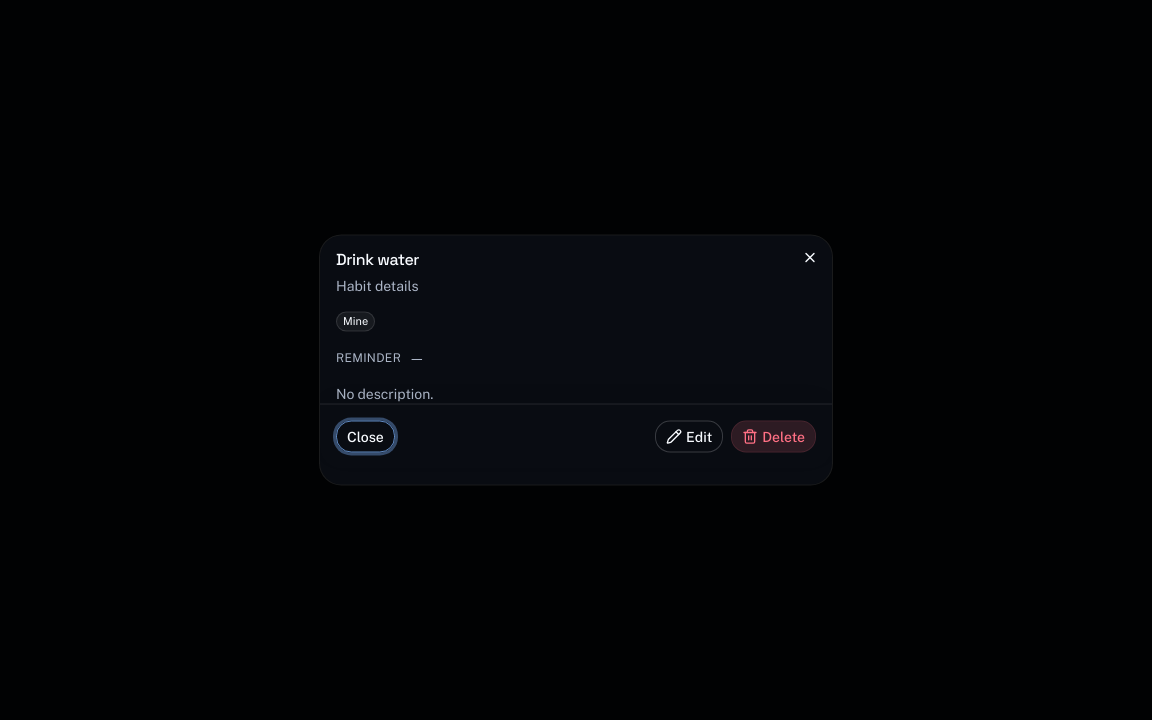
it: HabitTemplateDetailDialog — the save payload › disables Save while the name is empty
Step 1. Click the button "Edit" → (689, 436), box left=655, top=420, right=723, bottom=452
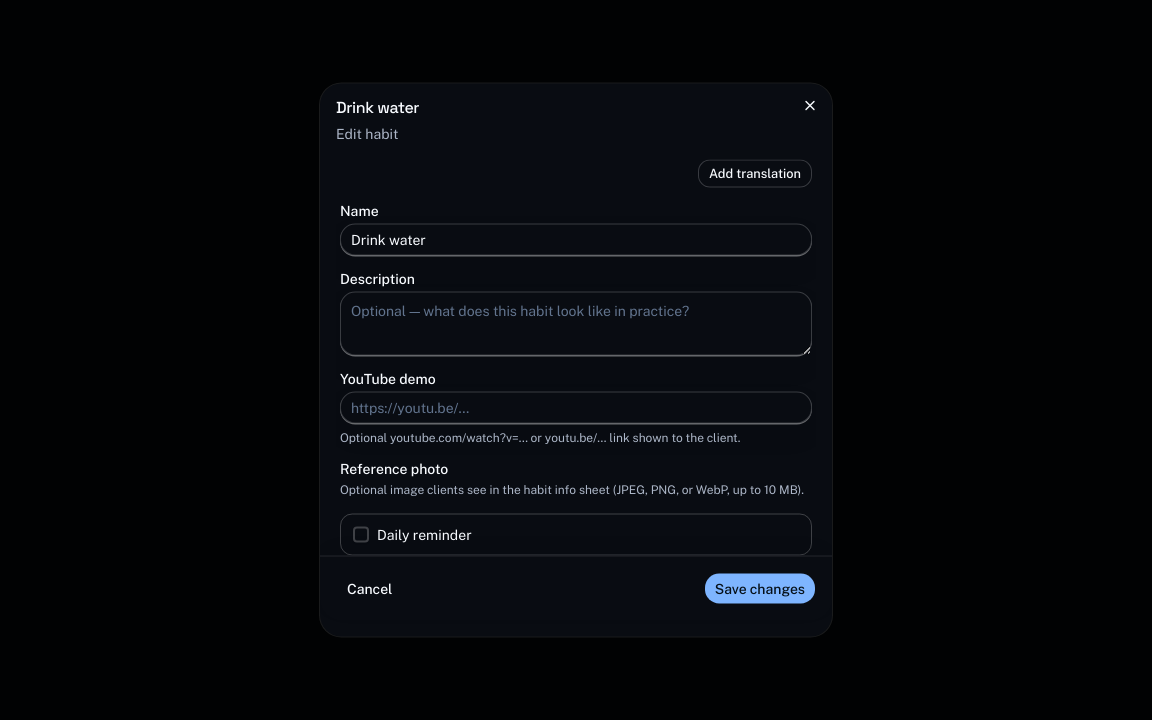
Step 2. Clear the field labelled "Name" → (576, 240), box left=340, top=224, right=812, bottom=256
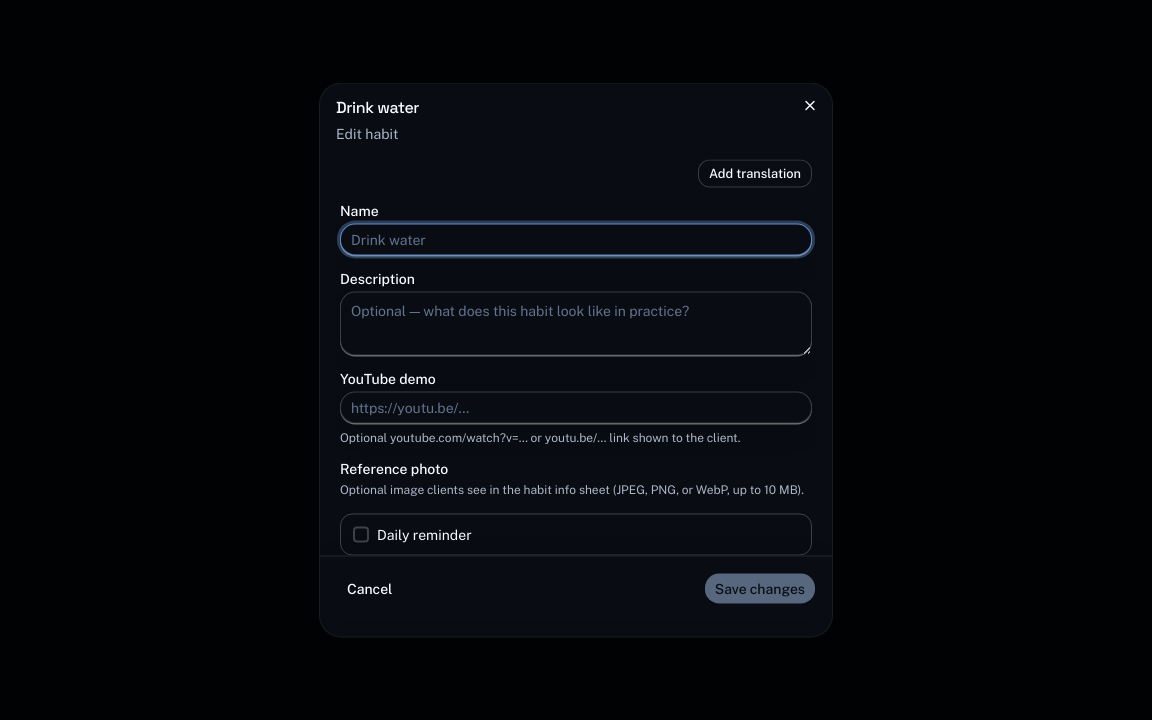
Now the button "Save changes" is disabled, box left=704, top=572, right=816, bottom=604
